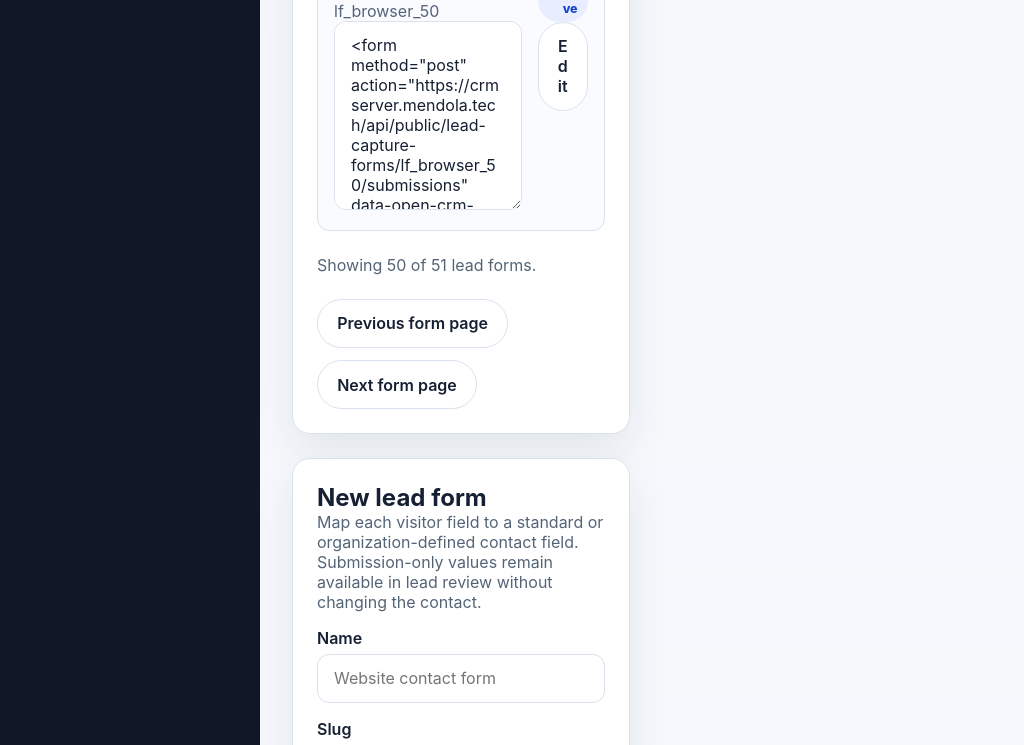
Scenario: settings lead forms route › shows exact totals and reaches the next stable form page
The image size is (1024, 745).
(page scrolled)
Expected: the heading "Browser lead form #051" is not shown
Expected: the text "Showing 50 of 51 lead forms." is shown, [317,255,536,275]
Click the button "Next form page" at coordinates (397, 385), box [317,360,477,409]
(page scrolled)
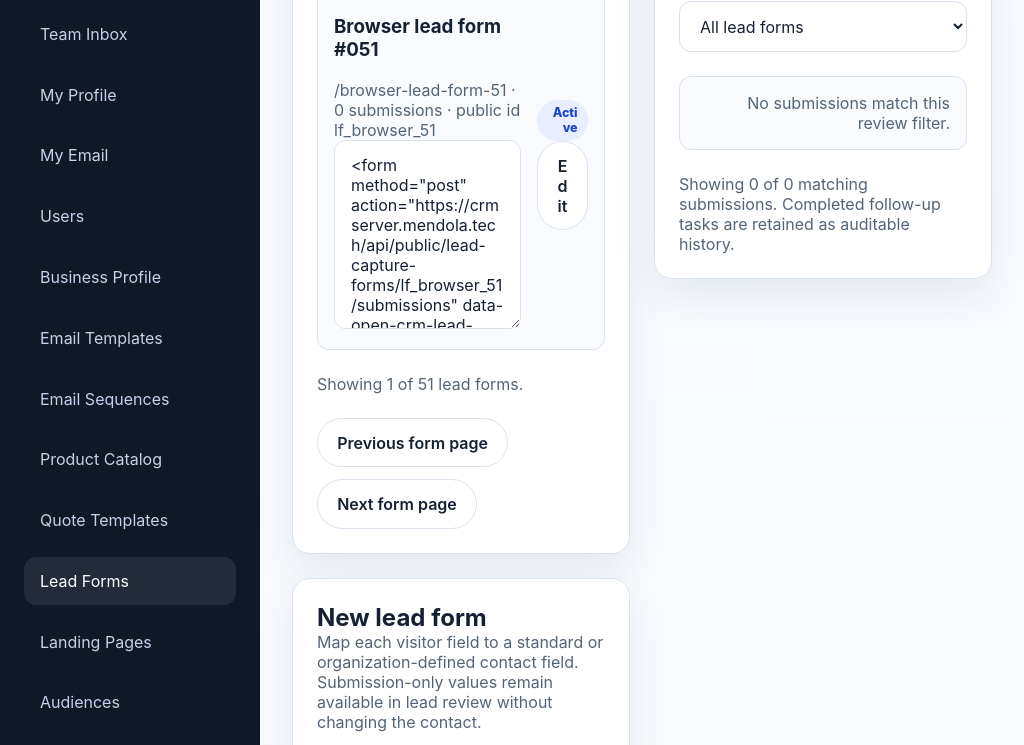
Expected: the heading "Browser lead form #051" is shown, [334,15,521,61]
Expected: the text "Showing 1 of 51 lead forms." is shown, [317,374,523,394]
